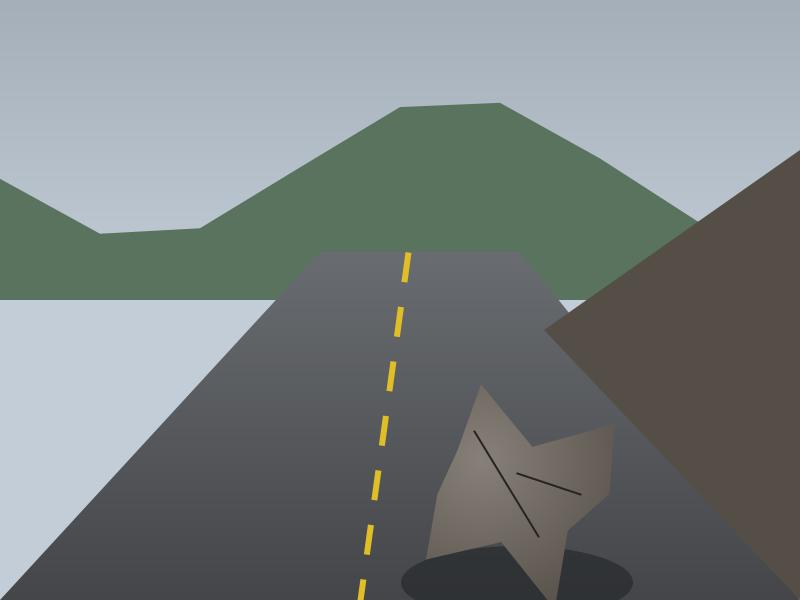ROAD_OBSTACLE: (411, 389, 623, 599)
